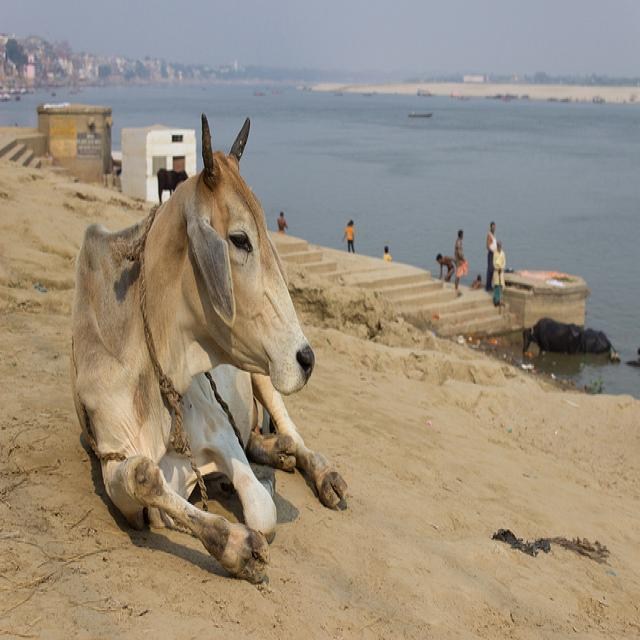cow: (69, 109, 352, 589), (521, 315, 582, 354), (156, 166, 188, 201), (580, 325, 615, 351)
